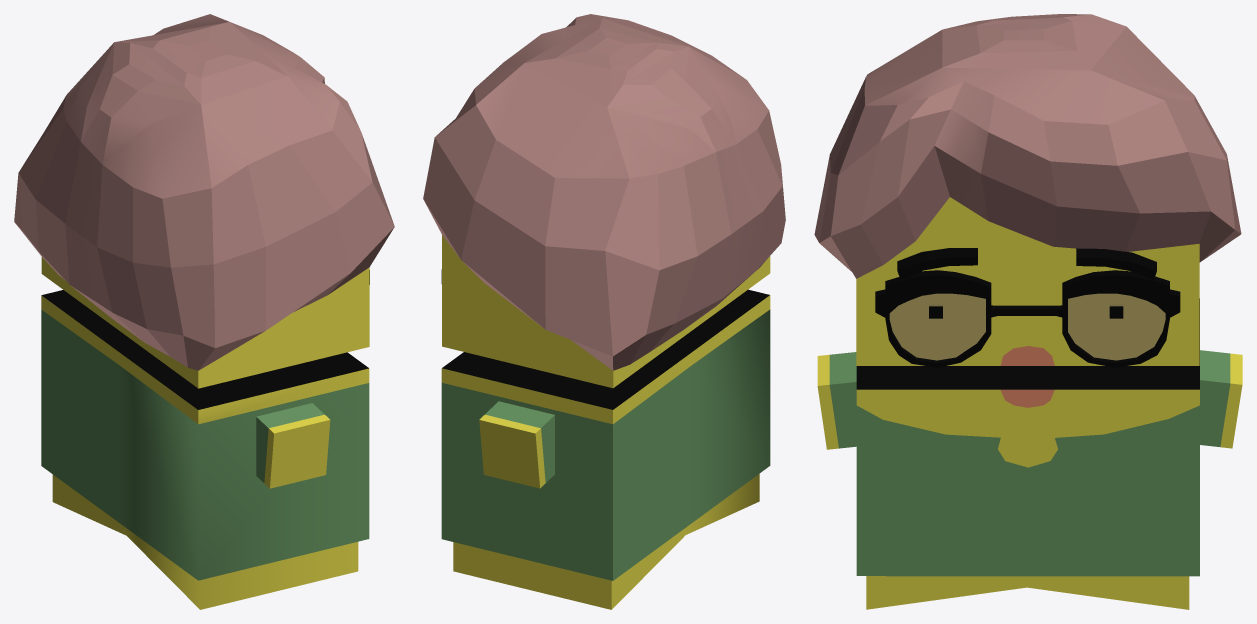
The model's file is SteveMom 1.fbx.
3 views of the same model, side by side, from view 1: azimuth 30°, elevation 25°; view 2: azimuth 150°, elevation 25°; view 3: azimuth 270°, elevation 25° (orthographic). The views are drawn at different scales.
Parts seen in each view (by area): view 1: Head, Body, L_Leg2, L_Arm, R_leg2; view 2: Head, Body, R_leg2, R_Arm, L_Leg2; view 3: Head, Body, Glasses, R_leg2, R_Arm, L_Leg2, L_Arm, R_Eyebrow, L_Eyebrow.
Part boxes in pixels (x1,y1,x2,y2): Head: (14,14,394,388); Body: (41,290,369,580); L_Leg2: (126,528,358,609); L_Arm: (256,403,330,488); R_leg2: (52,474,126,535); Head: (423,14,785,388); Body: (441,289,770,580); R_leg2: (453,528,685,609); R_Arm: (479,401,554,488); L_Leg2: (685,474,759,534); Head: (814,14,1241,365); Body: (856,298,1199,576); Glasses: (875,270,1180,367); R_leg2: (1027,576,1189,609); R_Arm: (1200,350,1242,448); L_Leg2: (866,576,1027,609); L_Arm: (817,352,856,449); R_Eyebrow: (1076,248,1156,280); L_Eyebrow: (897,248,977,279).
Size of the model in its own units: 0.8862 by 1.7 by 1.23.
